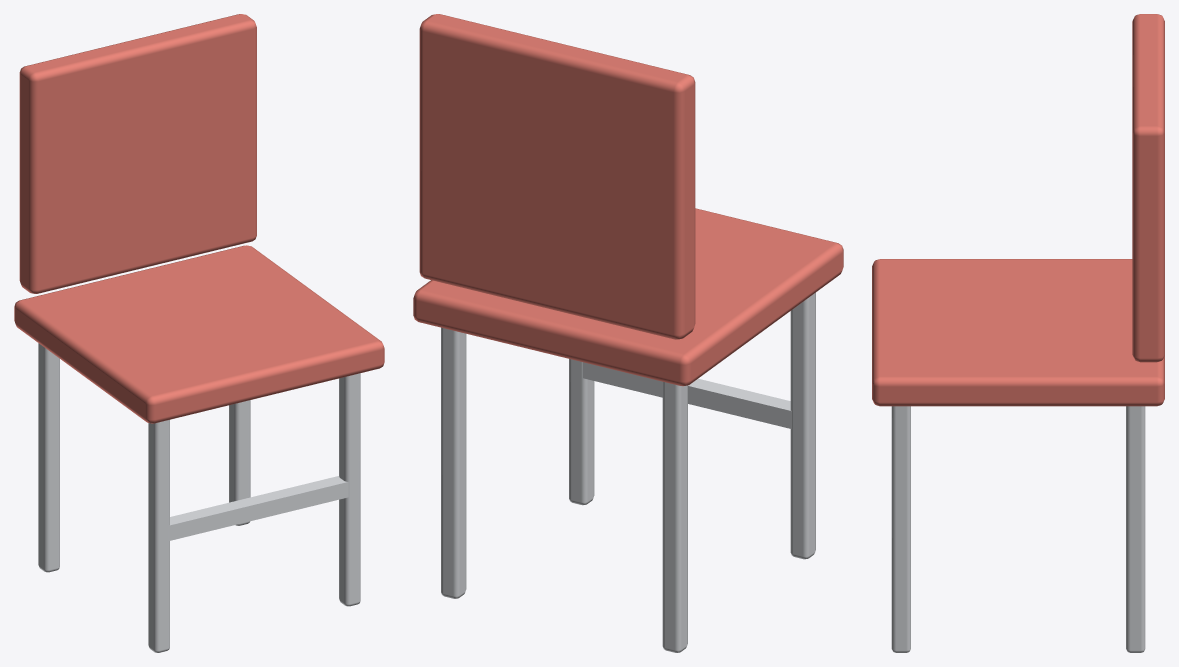
3 renders of one model, left to right at view 1: azimuth 30°, elevation 25°; view 2: azimuth 150°, elevation 25°; view 3: azimuth 270°, elevation 25°, orthographic. The views are drawn at different scales.
Visible parts, largest first — view 1: invigilator-chair; view 2: invigilator-chair; view 3: invigilator-chair.
Boxes of the visible parts, x1,y1,x2,y2 form: invigilator-chair: [14, 14, 384, 652]; invigilator-chair: [413, 14, 843, 652]; invigilator-chair: [872, 14, 1164, 652].
Size of the model in its own units: 0.45 by 0.9 by 0.45.
